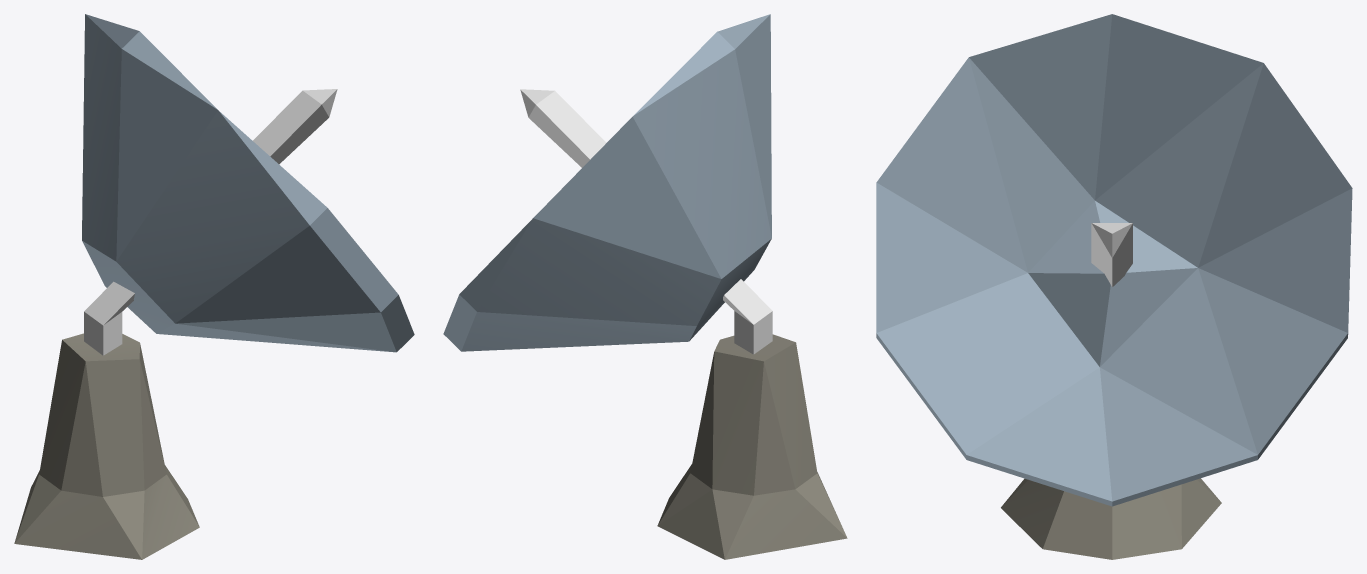
File: sputnik_earth.fbx
3 views of the same model, side by side, from view 1: azimuth 30°, elevation 25°; view 2: azimuth 150°, elevation 25°; view 3: azimuth 270°, elevation 25° (orthographic). The views are drawn at different scales.
Visible parts, largest first — view 1: sputnik_two1, sputnik_two, sputnik_two2; view 2: sputnik_two1, sputnik_two, sputnik_two2; view 3: sputnik_two1, sputnik_two, sputnik_two2.
Boxes of the visible parts, <box> form: sputnik_two1: <box>82,14,414,352</box>; sputnik_two: <box>14,333,199,559</box>; sputnik_two2: <box>84,89,337,355</box>; sputnik_two1: <box>443,14,771,351</box>; sputnik_two: <box>657,334,847,559</box>; sputnik_two2: <box>520,89,772,354</box>; sputnik_two1: <box>876,14,1352,506</box>; sputnik_two: <box>1001,478,1221,559</box>; sputnik_two2: <box>1091,223,1132,287</box>.
Size of the model in its own units: 319 by 409 by 339.
